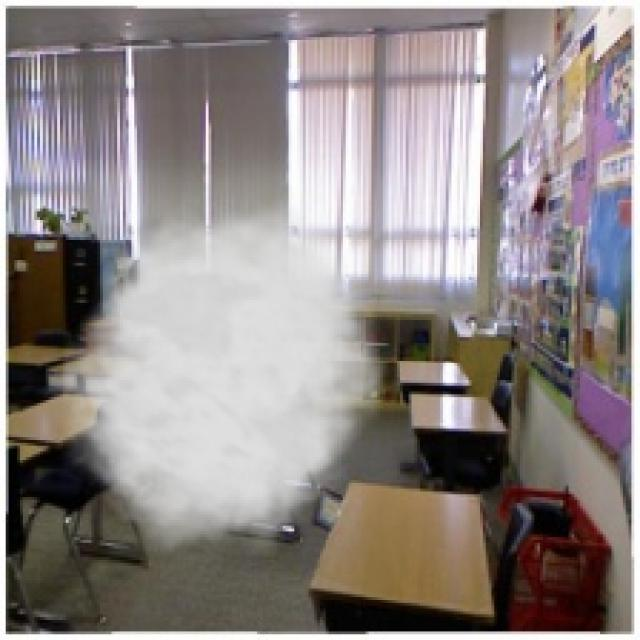smoke: (43, 192, 397, 557)
